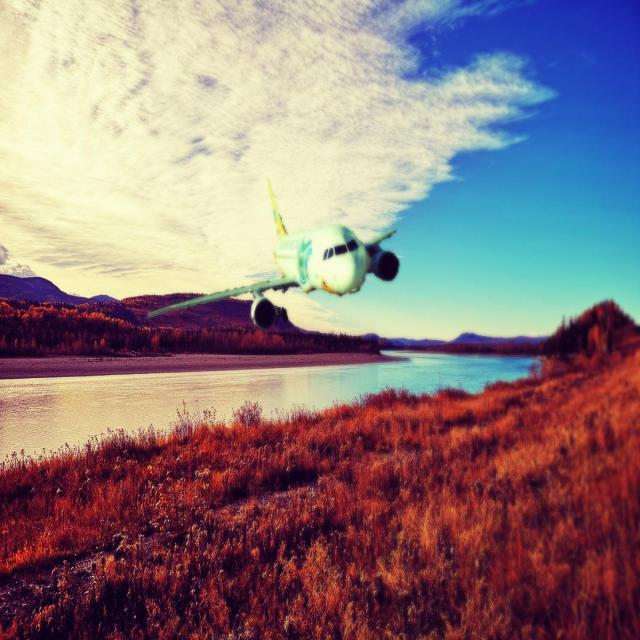airplane: (146, 176, 400, 332)
